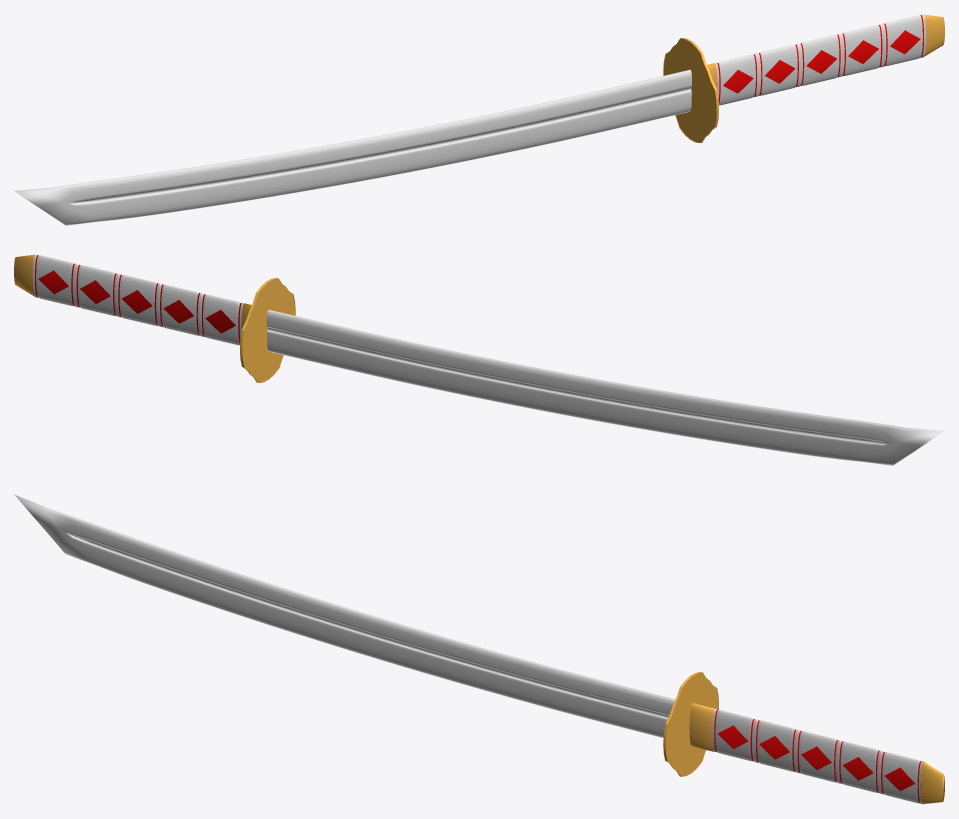
The model's file is Katana.fbx.
3 renders of one model, top to bottom at view 1: azimuth 30°, elevation 25°; view 2: azimuth 150°, elevation 25°; view 3: azimuth 330°, elevation 25°, orthographic.
Visible parts, largest first — view 1: Plane, Circle.002, Circle.001, Circle; view 2: Plane, Circle.002, Circle.001, Circle; view 3: Plane, Circle.002, Circle.001, Circle.
Boxes of the visible parts, box(x1,y1,x2,y2) form: Plane: box(14, 69, 691, 225); Circle.002: box(715, 14, 926, 105); Circle.001: box(707, 14, 944, 103); Circle: box(663, 38, 718, 142); Plane: box(267, 309, 944, 465); Circle.002: box(32, 254, 243, 345); Circle.001: box(14, 254, 251, 343); Circle: box(240, 278, 295, 382); Plane: box(14, 494, 675, 738); Circle.002: box(712, 708, 924, 804); Circle.001: box(689, 703, 944, 804); Circle: box(663, 672, 718, 776).
Bounding box in the file's own units: 89.07 × 10.38 × 8.89.
